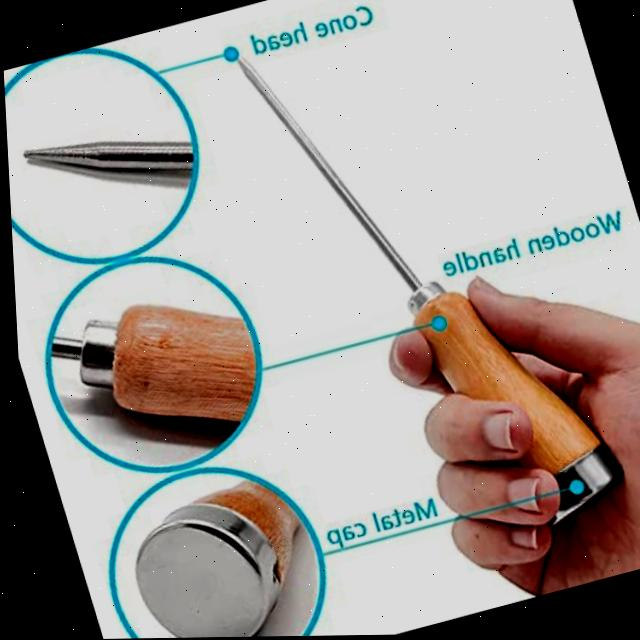ice pick: (230, 0, 628, 569), (34, 277, 270, 462), (109, 469, 324, 639), (19, 107, 199, 208)
